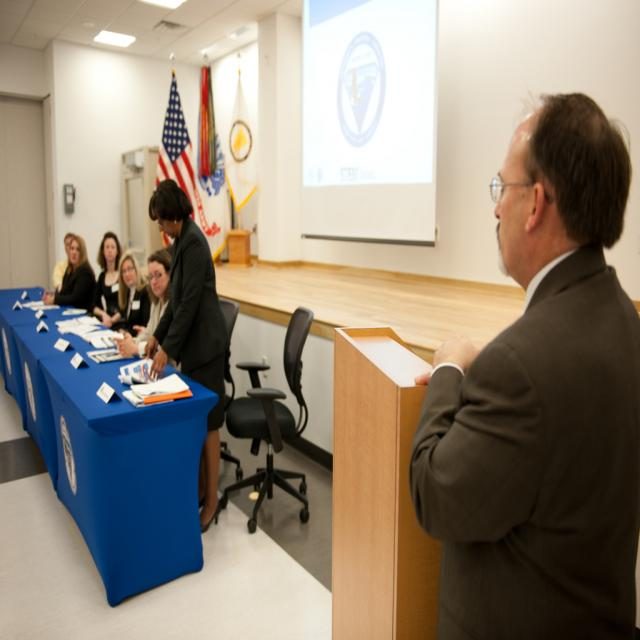chair: (215, 307, 314, 534)
desk: (7, 312, 223, 606)
person: (407, 91, 639, 630), (140, 178, 228, 527), (121, 248, 171, 354), (98, 251, 148, 333), (51, 232, 96, 311), (92, 232, 125, 326)
tv: (302, 0, 438, 250)
